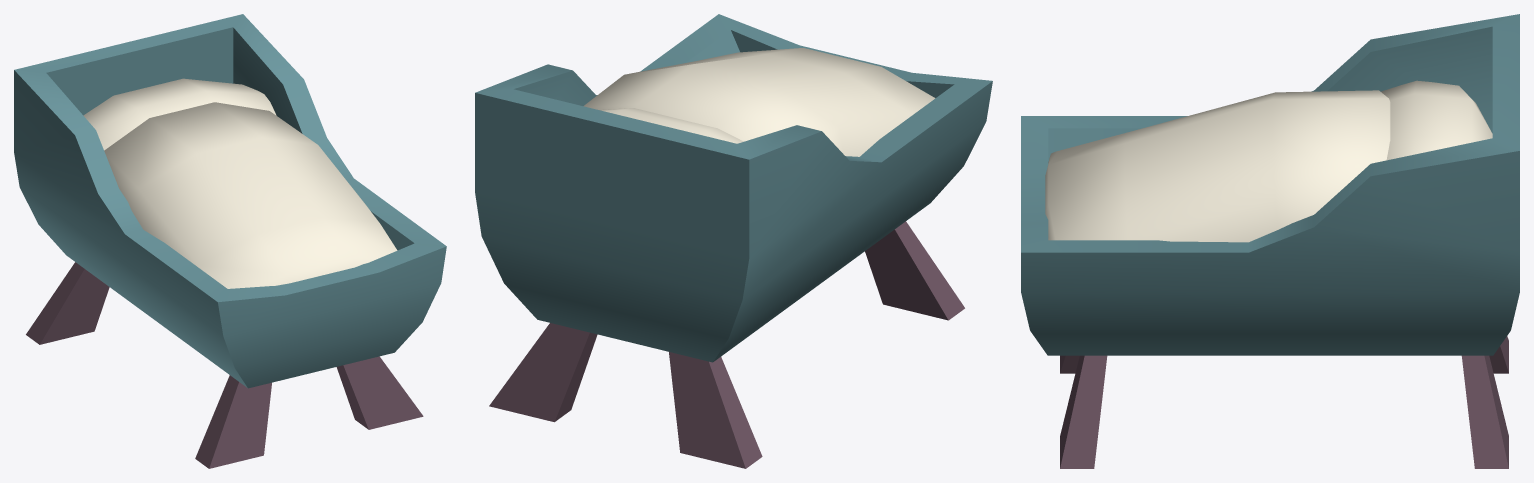
Rendered from crib.fbx.
3 views of the same model, side by side, from view 1: azimuth 30°, elevation 25°; view 2: azimuth 150°, elevation 25°; view 3: azimuth 270°, elevation 25° (orthographic). The views are drawn at different scales.
Parts seen in each view (by area): view 1: Crib; view 2: Crib; view 3: Crib.
Part boxes in pixels (x1,y1,x2,y2): Crib: [14, 14, 446, 468]; Crib: [475, 14, 992, 468]; Crib: [1021, 14, 1519, 468].
Bounding box in the file's own units: 234 × 257 × 360.
